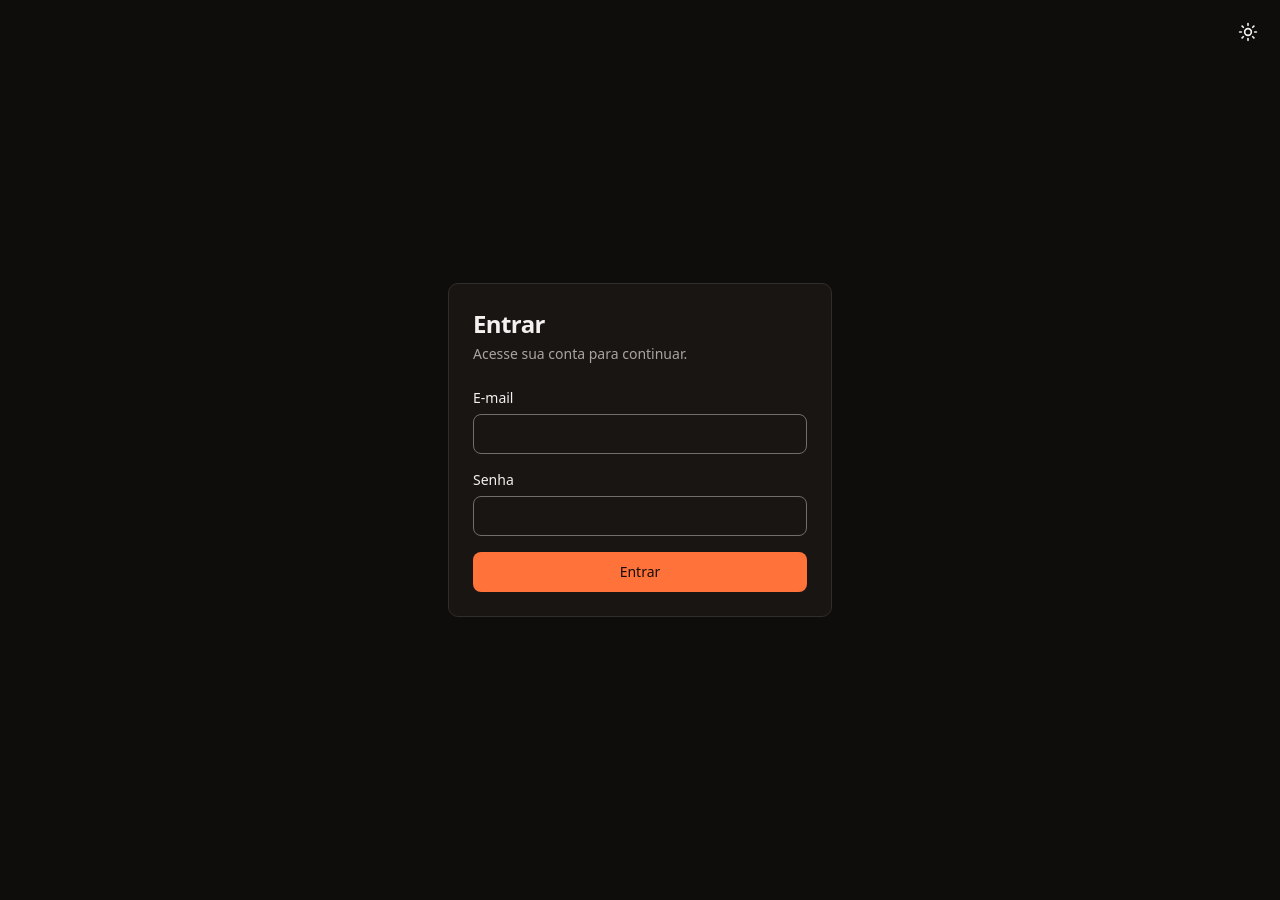
login e proteção de rotas › login com sucesso envia credenciais normalizadas e volta ao destino
Type "  Usuario@Exemplo.TEST " into the field labelled "E-mail". click: point(640, 434)
box: [473,414,807,454]
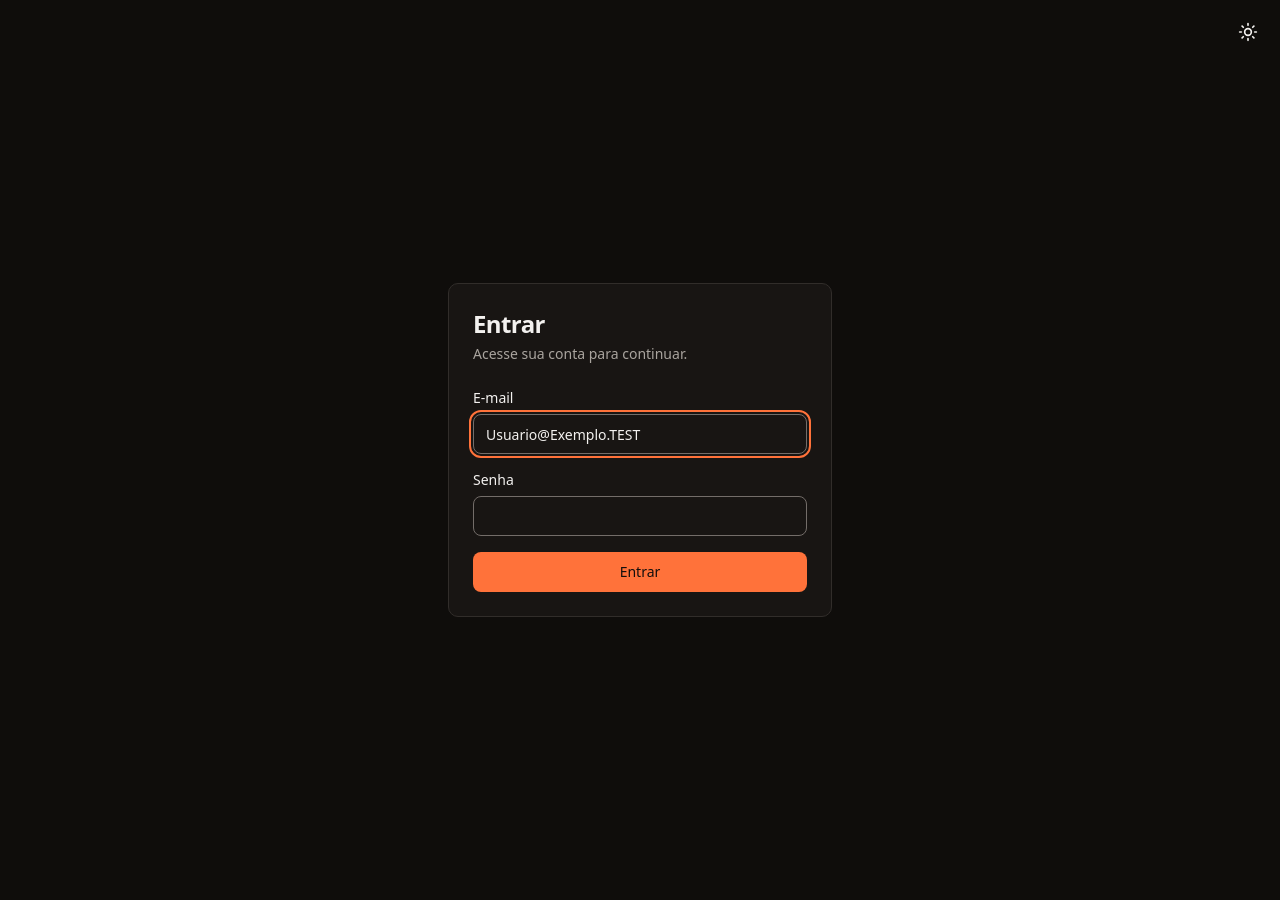
Type "segredo-123" into the password field labelled "Senha". click: point(640, 516)
box: [473,496,807,536]
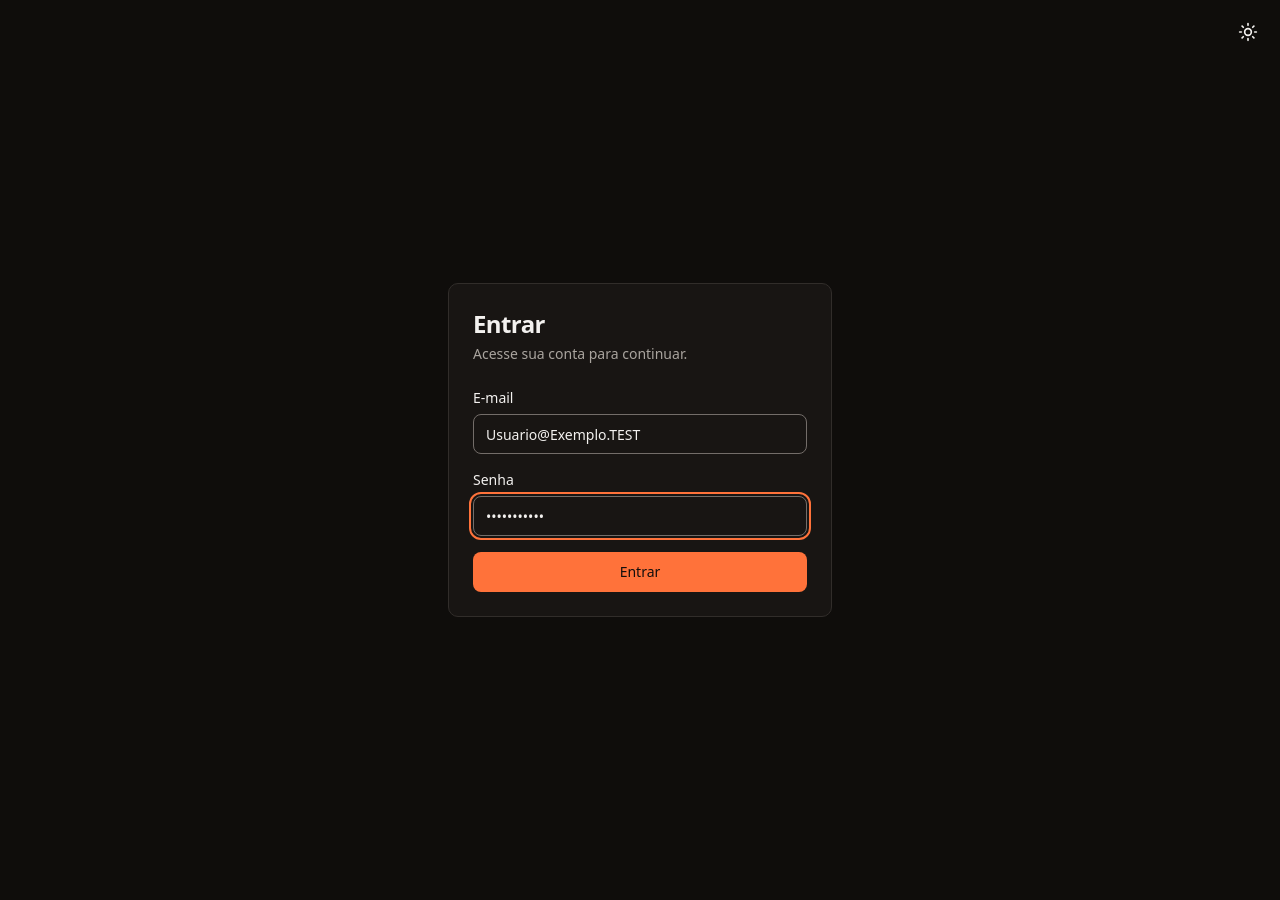
Click the button "Entrar". click: point(640, 572)
box: [473,552,807,592]
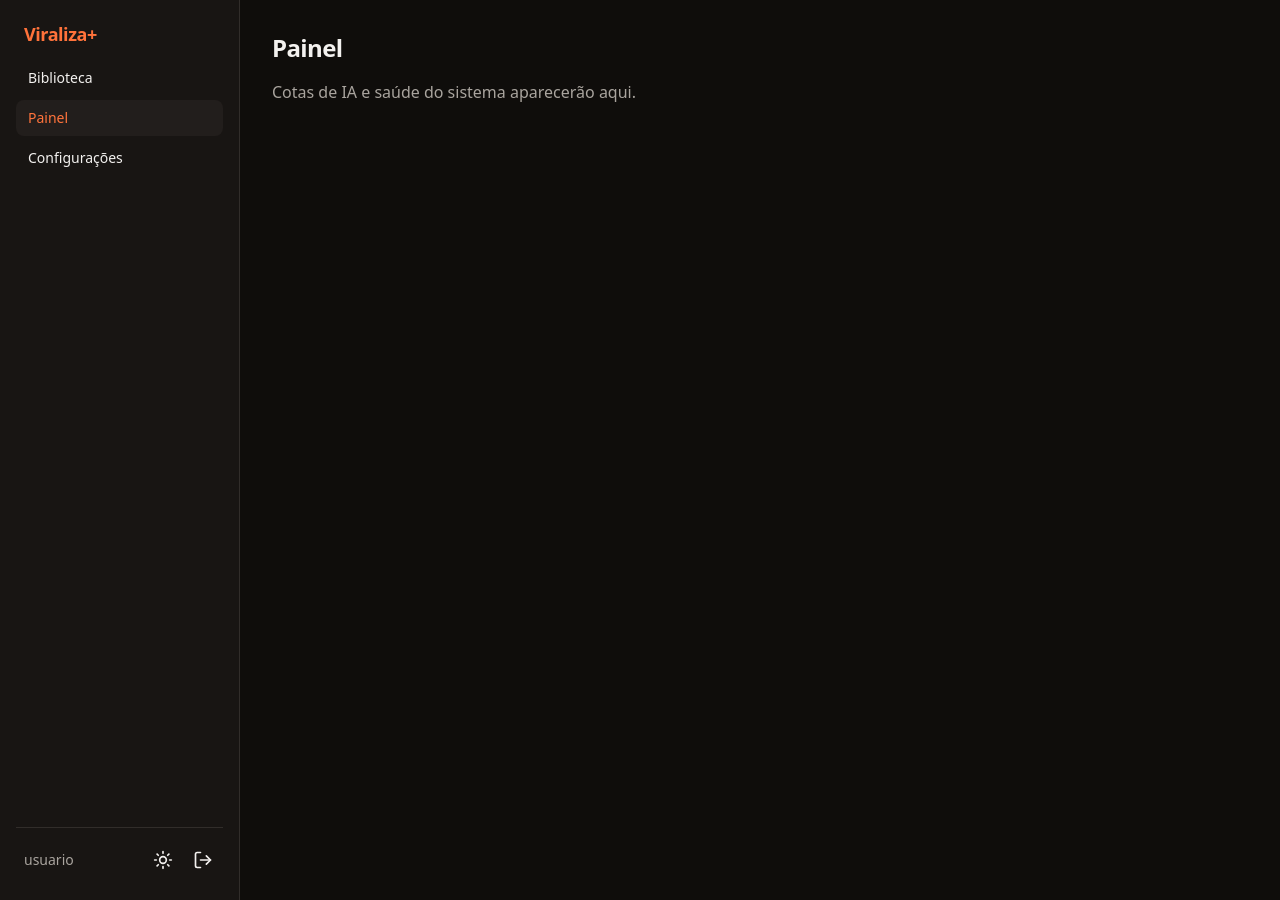
Check: the link "Painel" is shown, box [16,100,223,136]
Check: the heading "Entrar" is gone
